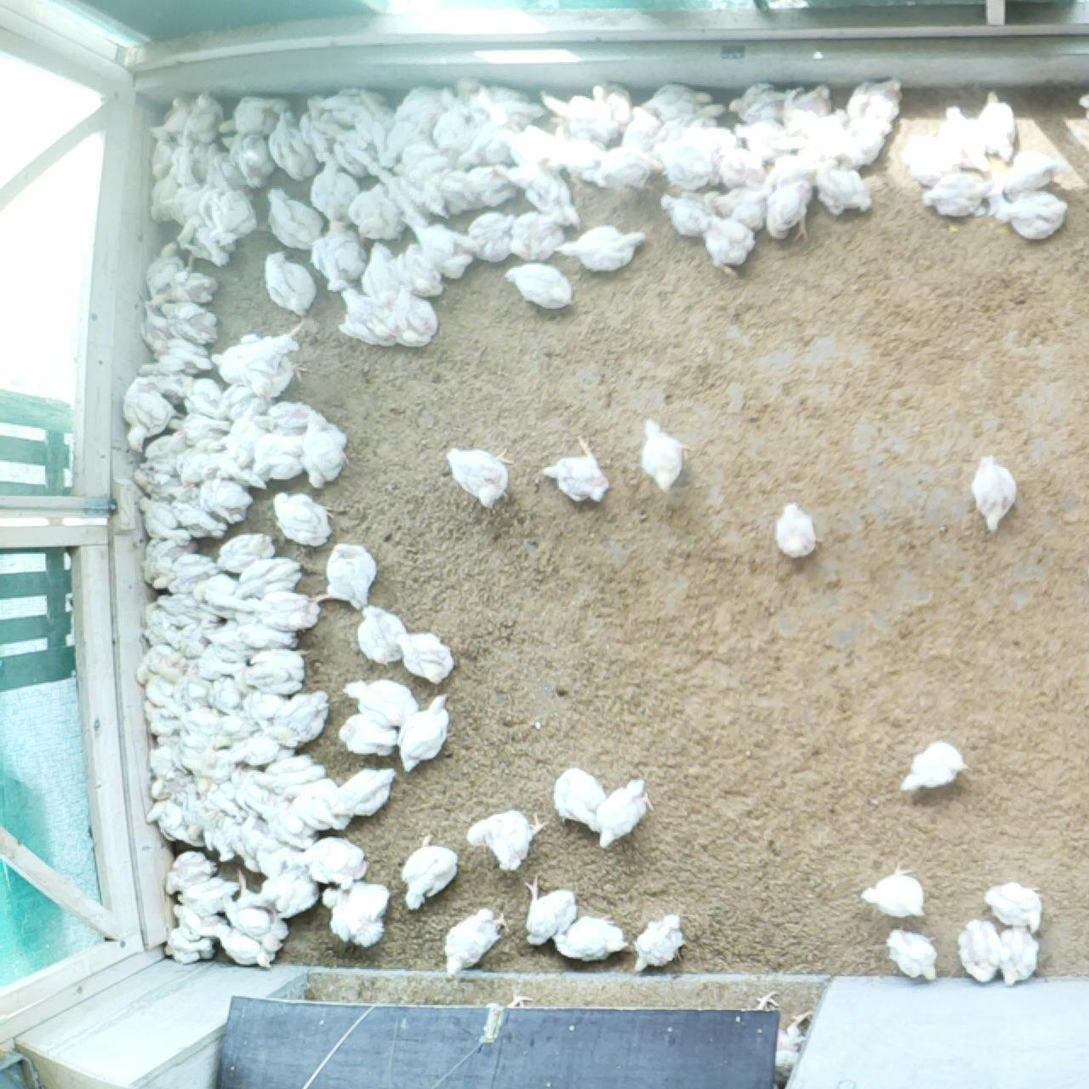chicken: (208, 319, 318, 403), (221, 866, 292, 953), (463, 804, 547, 874), (442, 439, 519, 514), (395, 690, 459, 780), (442, 906, 516, 982), (595, 769, 660, 853), (397, 831, 462, 914), (319, 877, 391, 951), (537, 433, 610, 505), (553, 222, 651, 275), (522, 866, 583, 951), (968, 449, 1023, 543), (118, 374, 185, 451), (311, 211, 370, 295), (308, 541, 379, 610), (894, 737, 974, 797), (512, 160, 583, 227), (979, 871, 1049, 938), (857, 858, 930, 921), (551, 760, 610, 837), (269, 488, 339, 552), (293, 835, 367, 893), (639, 415, 694, 493), (299, 409, 353, 488), (327, 766, 400, 824), (996, 186, 1070, 243), (920, 169, 996, 224), (342, 674, 422, 726), (552, 913, 629, 967), (335, 286, 402, 348), (409, 218, 474, 281), (148, 252, 218, 310), (458, 74, 536, 126), (632, 906, 688, 978), (393, 627, 459, 687), (938, 103, 992, 176), (353, 600, 410, 669), (269, 688, 333, 749), (952, 915, 1005, 988), (380, 280, 439, 345), (764, 177, 817, 249), (260, 249, 316, 317), (901, 130, 961, 192), (240, 590, 324, 634), (702, 212, 758, 278), (249, 867, 316, 922), (503, 260, 574, 311), (994, 918, 1042, 993), (311, 153, 361, 225), (245, 795, 315, 846), (973, 87, 1018, 166), (346, 179, 405, 239), (167, 483, 229, 540), (267, 108, 316, 180), (884, 923, 942, 983), (244, 646, 315, 695), (217, 134, 278, 191), (385, 171, 453, 222), (770, 495, 822, 560), (815, 155, 873, 213), (510, 205, 567, 264), (197, 464, 253, 524), (217, 92, 293, 136), (550, 120, 606, 179), (254, 751, 328, 795), (636, 77, 710, 121), (337, 708, 403, 757), (246, 430, 306, 483), (782, 82, 833, 144), (228, 396, 268, 474), (589, 147, 663, 189), (216, 527, 278, 577), (212, 923, 275, 972), (843, 113, 898, 169), (265, 185, 318, 243), (654, 139, 713, 191), (208, 189, 259, 249), (358, 239, 402, 307), (135, 494, 190, 548), (1004, 150, 1070, 195), (149, 548, 218, 591), (454, 122, 517, 169), (710, 183, 769, 233), (132, 537, 197, 582), (176, 874, 244, 917), (659, 102, 727, 145), (176, 214, 232, 266), (284, 791, 349, 835), (463, 208, 513, 265), (164, 849, 219, 900), (139, 428, 189, 484), (541, 80, 606, 123), (237, 555, 305, 596), (249, 399, 322, 437), (227, 763, 267, 832), (495, 124, 559, 167), (391, 85, 446, 135), (158, 298, 220, 342), (799, 107, 848, 162), (393, 241, 445, 292), (848, 70, 905, 116), (429, 86, 471, 148), (727, 80, 784, 124), (300, 92, 337, 159), (352, 88, 394, 146), (193, 570, 241, 620), (167, 406, 230, 444), (173, 655, 215, 710), (470, 161, 518, 209), (619, 103, 663, 155), (208, 711, 262, 753), (160, 182, 209, 228), (213, 379, 264, 423), (226, 730, 294, 763), (162, 925, 219, 964), (437, 165, 481, 215), (166, 134, 208, 186), (391, 152, 452, 187), (733, 118, 789, 156), (659, 193, 712, 233), (173, 438, 218, 485), (329, 128, 374, 175), (156, 594, 222, 626), (762, 158, 817, 196), (232, 811, 266, 872), (556, 116, 626, 145), (187, 90, 226, 142), (145, 241, 185, 291), (134, 300, 171, 353), (379, 120, 419, 169), (149, 335, 208, 368), (131, 643, 177, 685), (321, 85, 373, 122), (169, 900, 223, 935), (151, 92, 191, 139), (148, 164, 179, 224), (202, 807, 237, 860), (181, 372, 224, 415), (144, 743, 176, 800), (176, 781, 206, 841), (159, 622, 210, 657), (144, 799, 184, 843), (132, 467, 183, 501), (718, 144, 761, 184), (202, 139, 239, 185), (198, 644, 243, 681), (141, 666, 178, 711), (141, 360, 189, 394), (199, 621, 248, 654), (255, 833, 290, 877), (206, 675, 245, 713), (142, 698, 177, 738), (203, 779, 241, 815), (148, 129, 176, 177), (606, 78, 637, 121), (239, 690, 285, 718), (193, 748, 234, 779), (157, 735, 194, 769), (400, 136, 437, 165), (179, 714, 213, 745), (141, 603, 166, 642)
